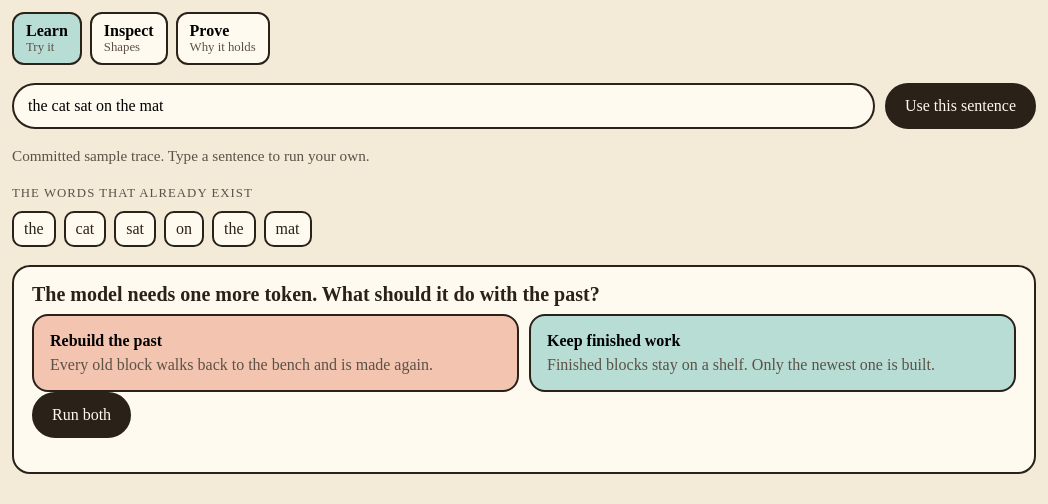
Test case: experiment 01 playground › failed Python is labelled as sample fallback
The width and height of the screenshot is (1048, 504).
Replace the text in the field named "short sentence" with "the cat sat" at (443, 106), box top-left (12, 83), bottom-right (875, 129)
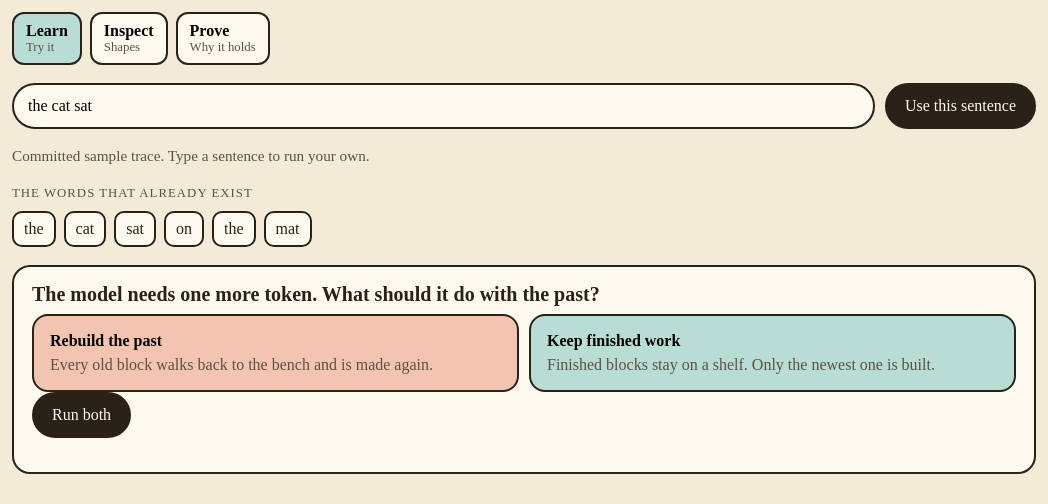
Click the button "Use this sentence" at (960, 106), box top-left (885, 83), bottom-right (1036, 129)
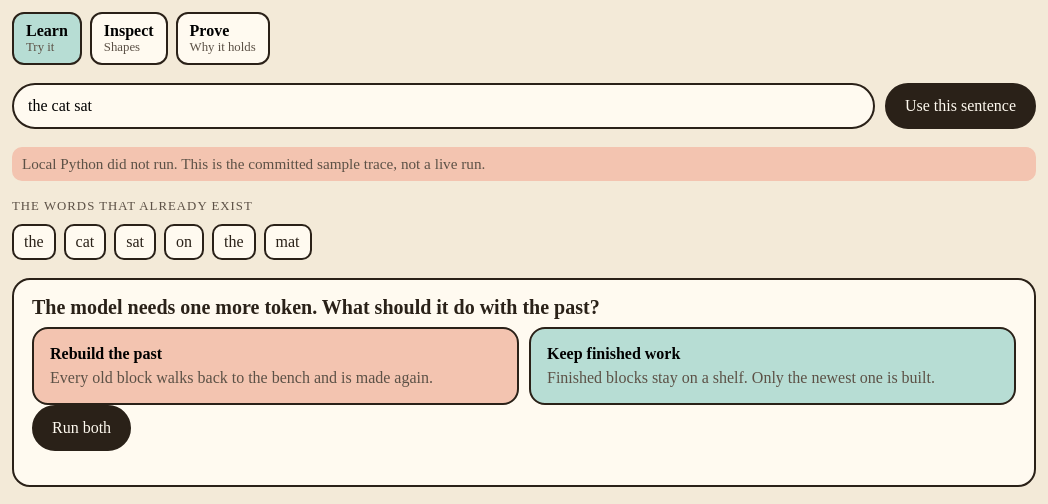
expect the message shows "committed sample trace, not a live run": met, box top-left (22, 155), bottom-right (485, 172)
